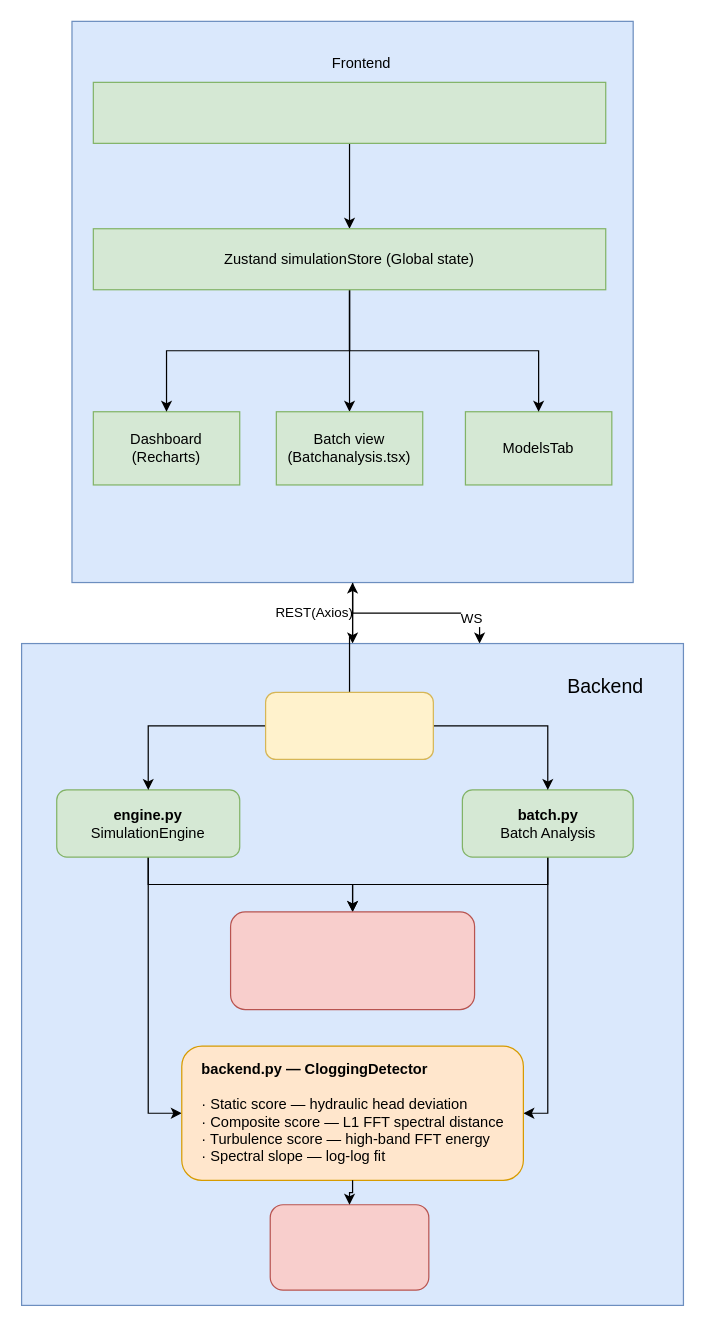
The diagram is 705 pixels wide and 1327 high, and some of its shapes have lost their labels. The shapes that lost their labels are listed below. From the top down, each one's box as (x1, y1, x2, y2) in pixels, then its label:
(92, 81, 606, 143): useWebSocket
(264, 691, 433, 759): main.py — Router
(229, 911, 475, 1010): dataloader.py DataStreamer CSV / XLSX parsing
(269, 1204, 429, 1290): models/ registry · builtins wrappers · sequence buffer
